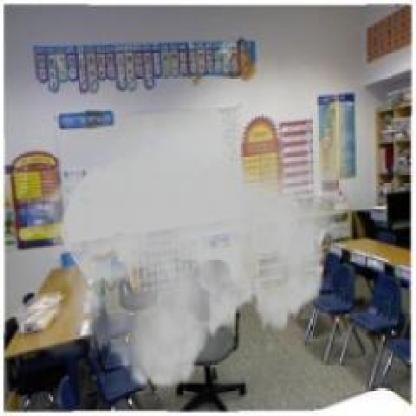Smoke: (16, 37, 353, 403)
